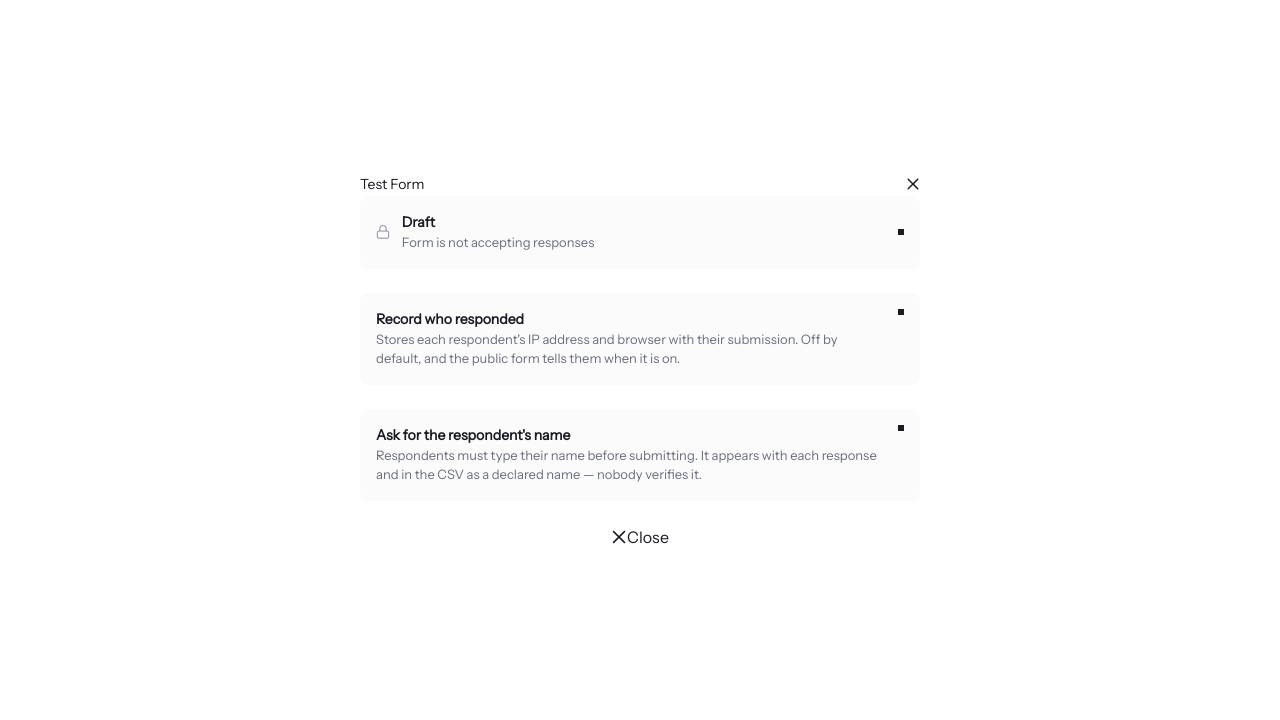
Test: ShareFormModal — asking for the respondent name › puts the switch back and says so when the write fails
This screenshot has width=1280, height=720.
Click the switch in the row of "Ask for the respondent's name" at (901, 427), box [898, 424, 904, 430]
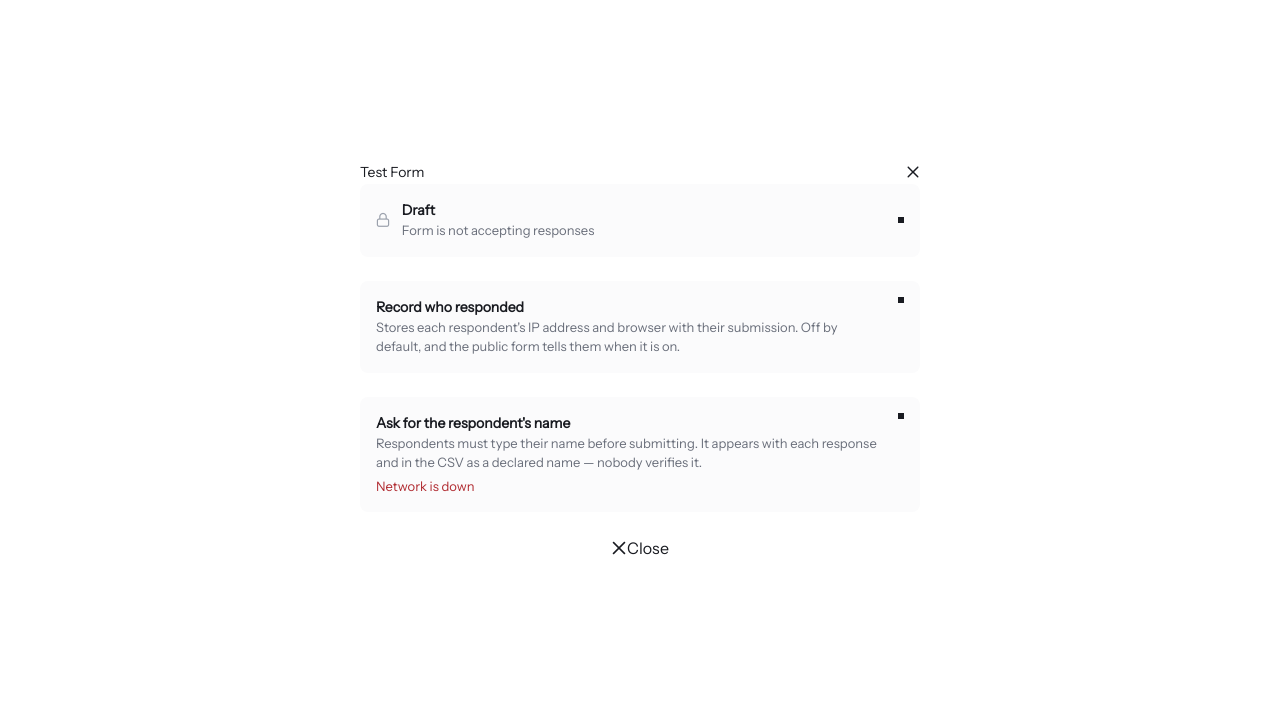
Check: the switch in the row of "Ask for the respondent's name" is not checked, box [898, 412, 904, 418]
Check: the message with test id "asks-name-error" reads "Network is down", box [376, 478, 475, 494]
